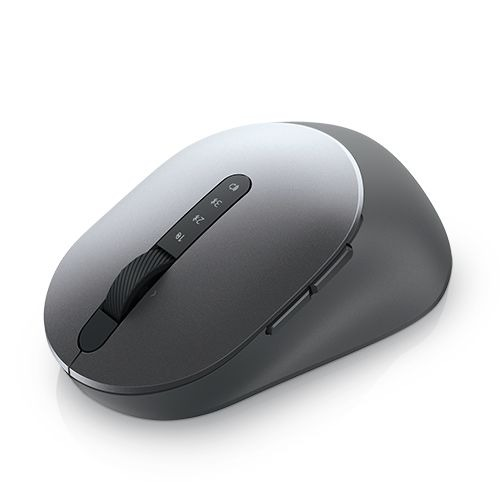mouse: (39, 117, 451, 428)
